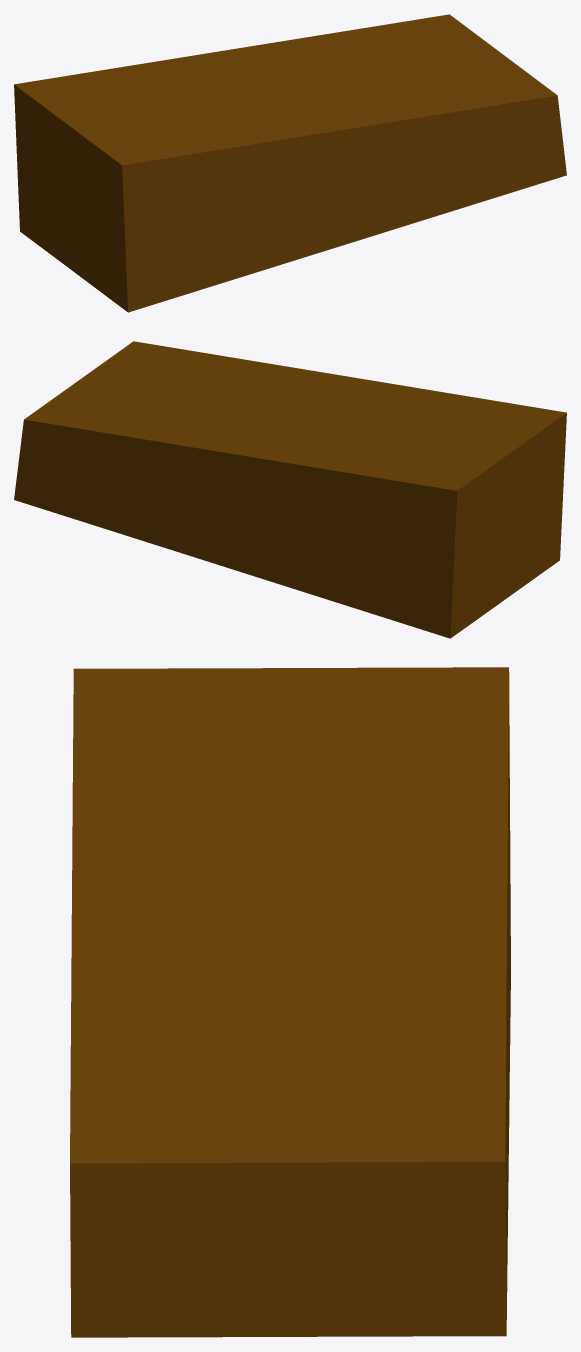
3 views of the same model, one above another, from view 1: azimuth 30°, elevation 25°; view 2: azimuth 150°, elevation 25°; view 3: azimuth 270°, elevation 25° (orthographic). The views are drawn at different scales.
Parts seen in each view (by area): view 1: 右4; view 2: 右4; view 3: 右4.
Part boxes in pixels (x1=…): 右4: x1=14, y1=14, x2=566, y2=312; 右4: x1=14, y1=341, x2=566, y2=638; 右4: x1=70, y1=667, x2=510, y2=1337.
Bounding box in the file's own units: 26.19 × 8.45 × 11.25.
